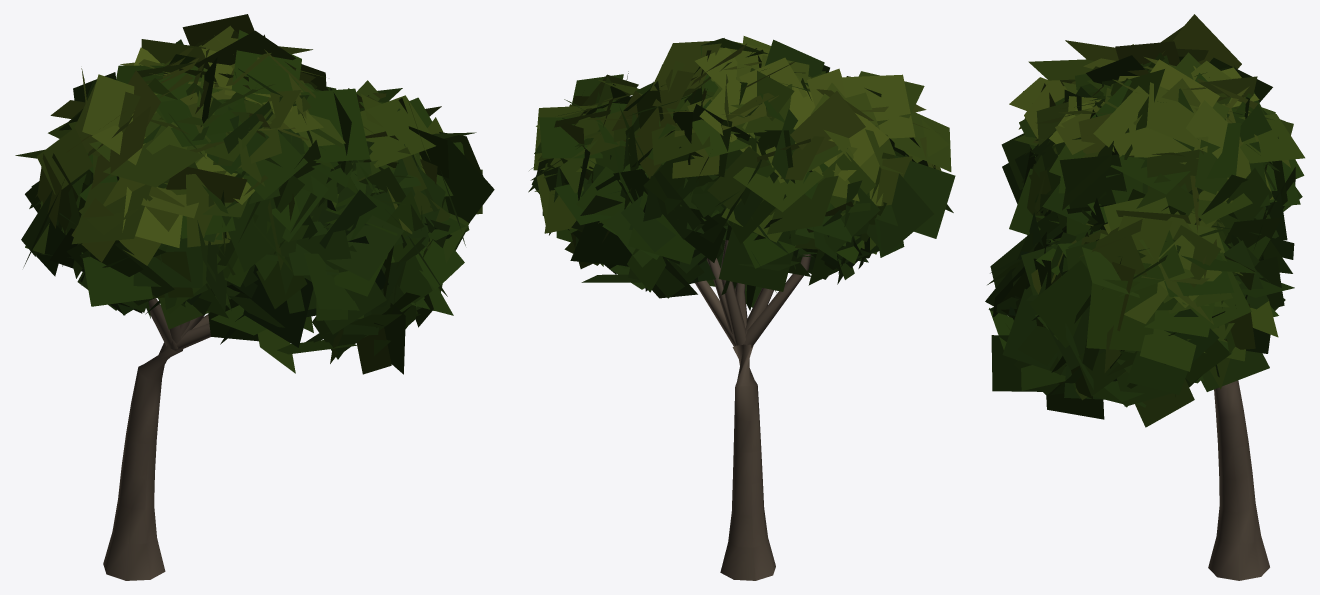
File: PLN_Broadleaf_Young.fbx
The picture shows the model from 3 angles, left to right: view 1: azimuth 30°, elevation 25°; view 2: azimuth 150°, elevation 25°; view 3: azimuth 270°, elevation 25°; orthographic projection. The views are drawn at different scales.
Visible parts, largest first — view 1: PLN_Broadleaf_Young; view 2: PLN_Broadleaf_Young; view 3: PLN_Broadleaf_Young.
Part boxes in pixels (x1,y1,x2,y2): PLN_Broadleaf_Young: (15,14,494,580); PLN_Broadleaf_Young: (528,36,955,580); PLN_Broadleaf_Young: (985,14,1304,580).
Size of the model in its own units: 7.7 by 9.26 by 4.96.
